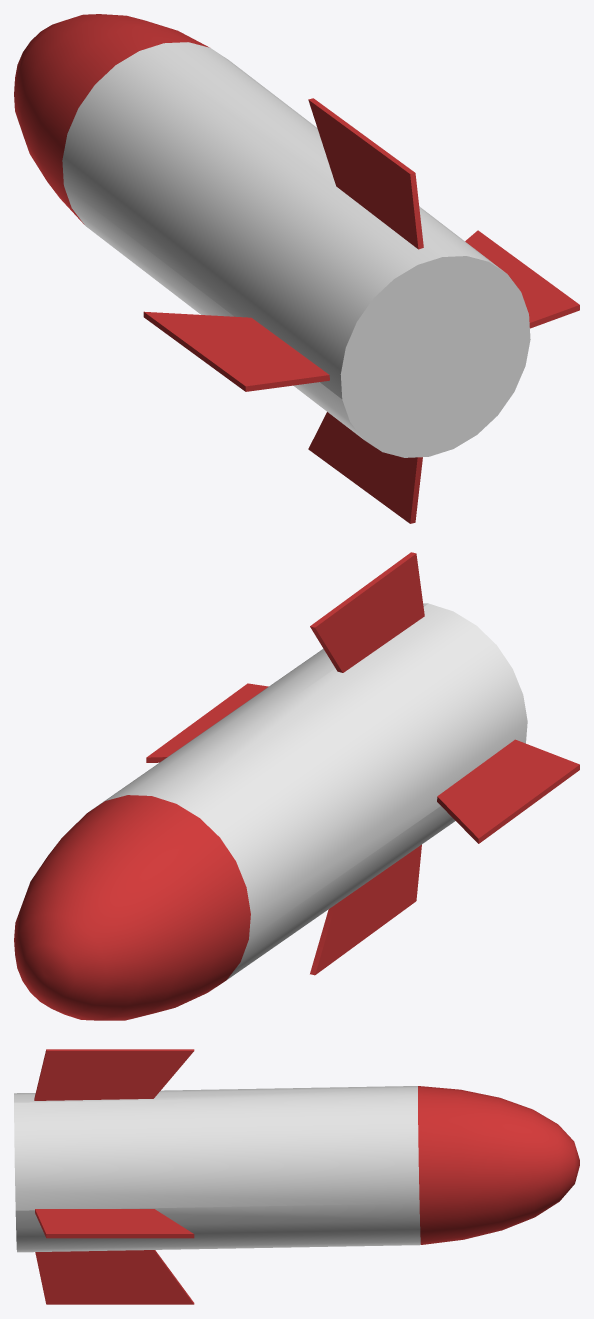
Rendered from rocket.fbx.
The picture shows the model from 3 angles, top to bottom: view 1: azimuth 30°, elevation 25°; view 2: azimuth 150°, elevation 25°; view 3: azimuth 270°, elevation 25°; orthographic projection. The views are drawn at different scales.
Visible parts, largest first — view 1: polySurface2; view 2: polySurface2; view 3: polySurface2.
Boxes of the visible parts, x1,y1,x2,y2 form: polySurface2: [14, 14, 579, 523]; polySurface2: [14, 552, 579, 1020]; polySurface2: [14, 1049, 579, 1304].
Size of the model in its own units: 6.56 by 6.56 by 13.25.
